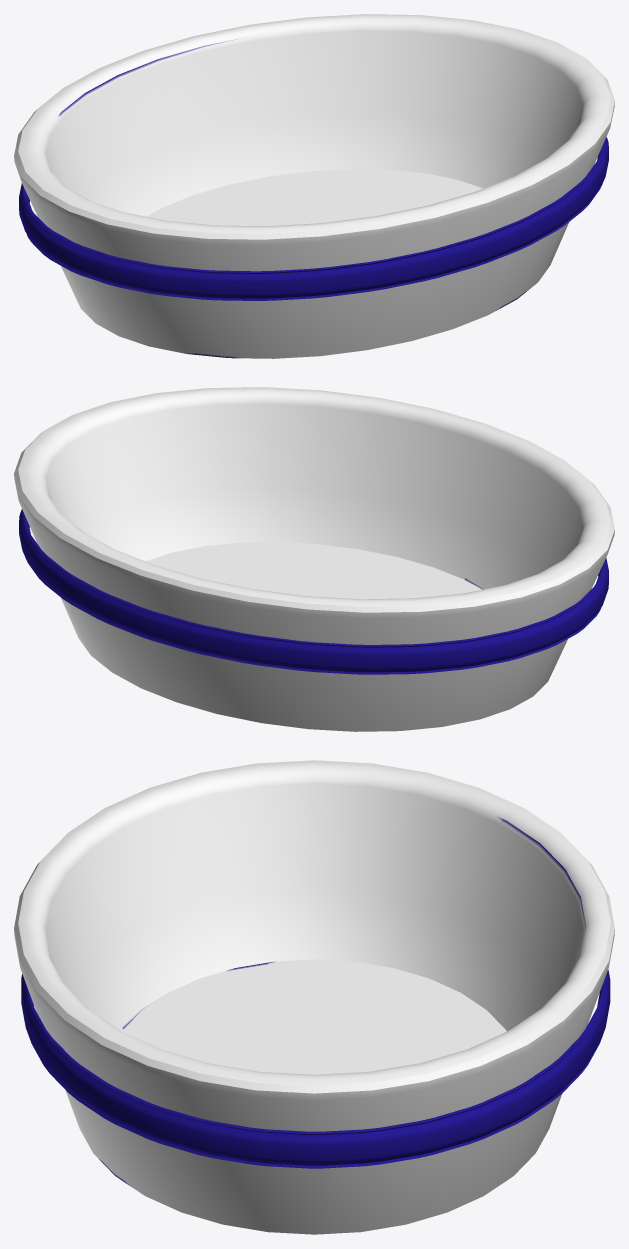
File: Bathtub(Baked).fbx
3 views of the same model, one above another, from view 1: azimuth 30°, elevation 25°; view 2: azimuth 150°, elevation 25°; view 3: azimuth 270°, elevation 25° (orthographic). The views are drawn at different scales.
Visible parts, largest first — view 1: Cylinder, Circle; view 2: Cylinder, Circle; view 3: Cylinder, Circle.
Part boxes in pixels (x1=…): Cylinder: x1=14, y1=14, x2=614, y2=358; Circle: x1=19, y1=137, x2=608, y2=300; Cylinder: x1=14, y1=387, x2=614, y2=731; Circle: x1=19, y1=509, x2=608, y2=674; Cylinder: x1=14, y1=760, x2=614, y2=1234; Circle: x1=21, y1=969, x2=610, y2=1168.
Bounding box in the file's own units: 445 × 114 × 342.
